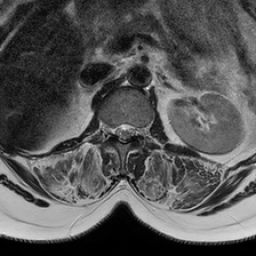CCS_normal: (122, 117, 129, 147)
LFS_normal: (136, 121, 144, 140)
LLS_normal: (129, 118, 136, 142)
RFS_normal: (107, 120, 115, 140)
RLS_normal: (115, 120, 122, 142)
